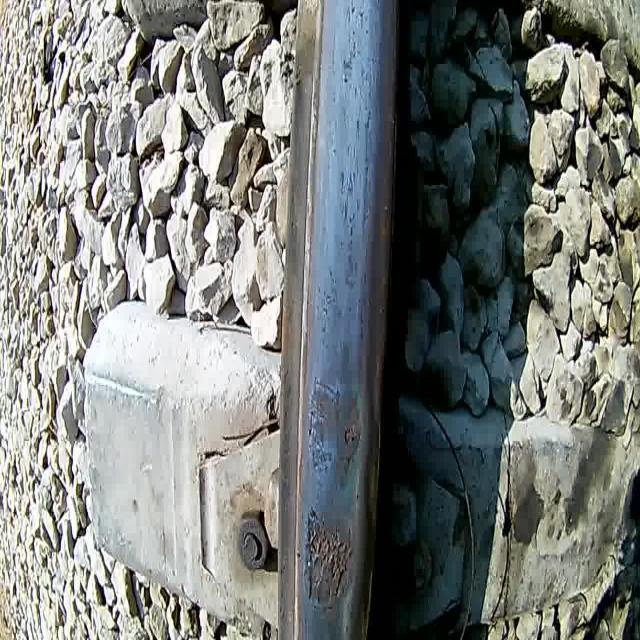Cracks: (308, 368, 341, 461)
Spallings: (303, 502, 354, 614), (341, 419, 363, 472), (310, 444, 336, 478)
Squats: (306, 336, 364, 494), (301, 498, 360, 640)
